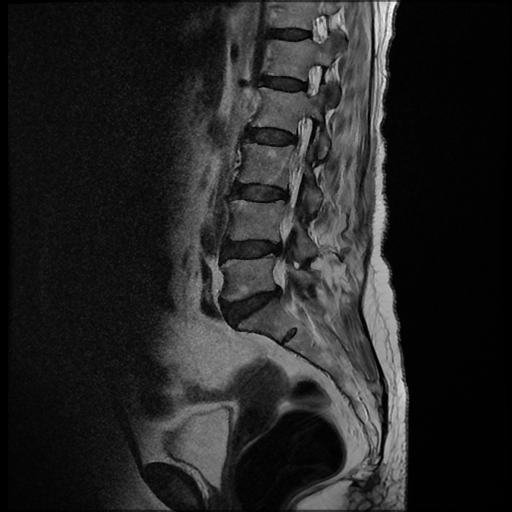RFS0: (296, 53, 334, 106)
